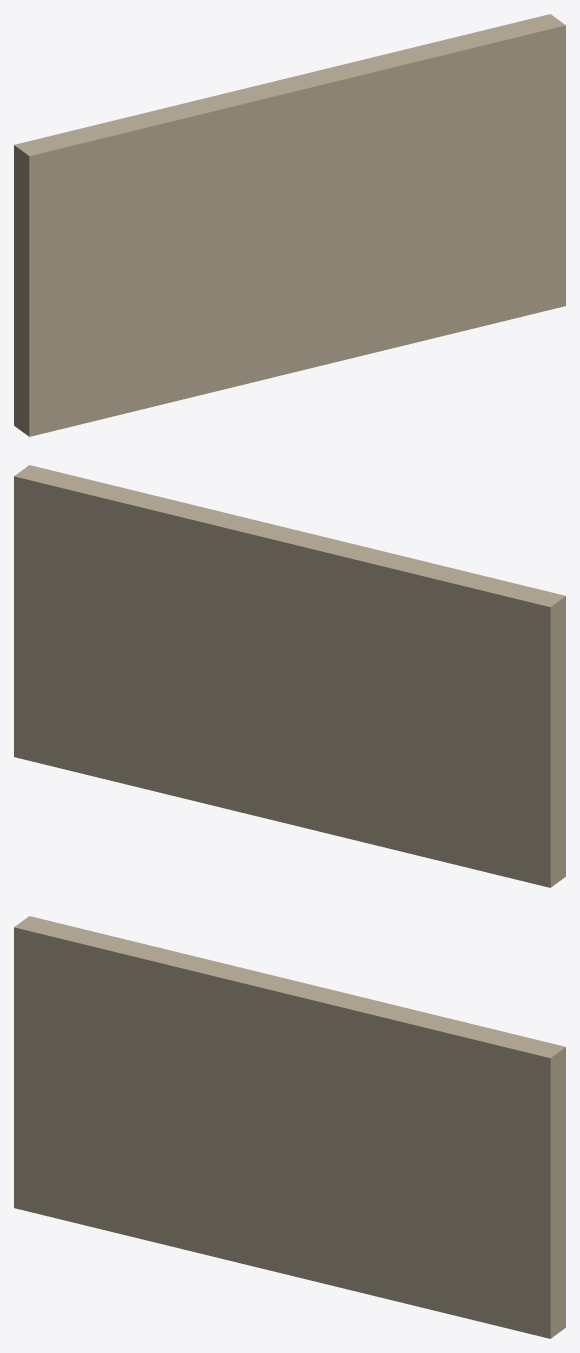
Rendered from wand_2x1.glb.
The picture shows the model from 3 angles, top to bottom: view 1: azimuth 30°, elevation 25°; view 2: azimuth 150°, elevation 25°; view 3: azimuth 330°, elevation 25°; orthographic projection.
Visible parts, largest first — view 1: wand_2x1; view 2: wand_2x1; view 3: wand_2x1.
Part boxes in pixels (x1,y1,x2,y2): wand_2x1: (14,14,565,436); wand_2x1: (14,465,565,887); wand_2x1: (14,916,565,1338).
Bounding box in the file's own units: 2 × 1 × 0.1.
